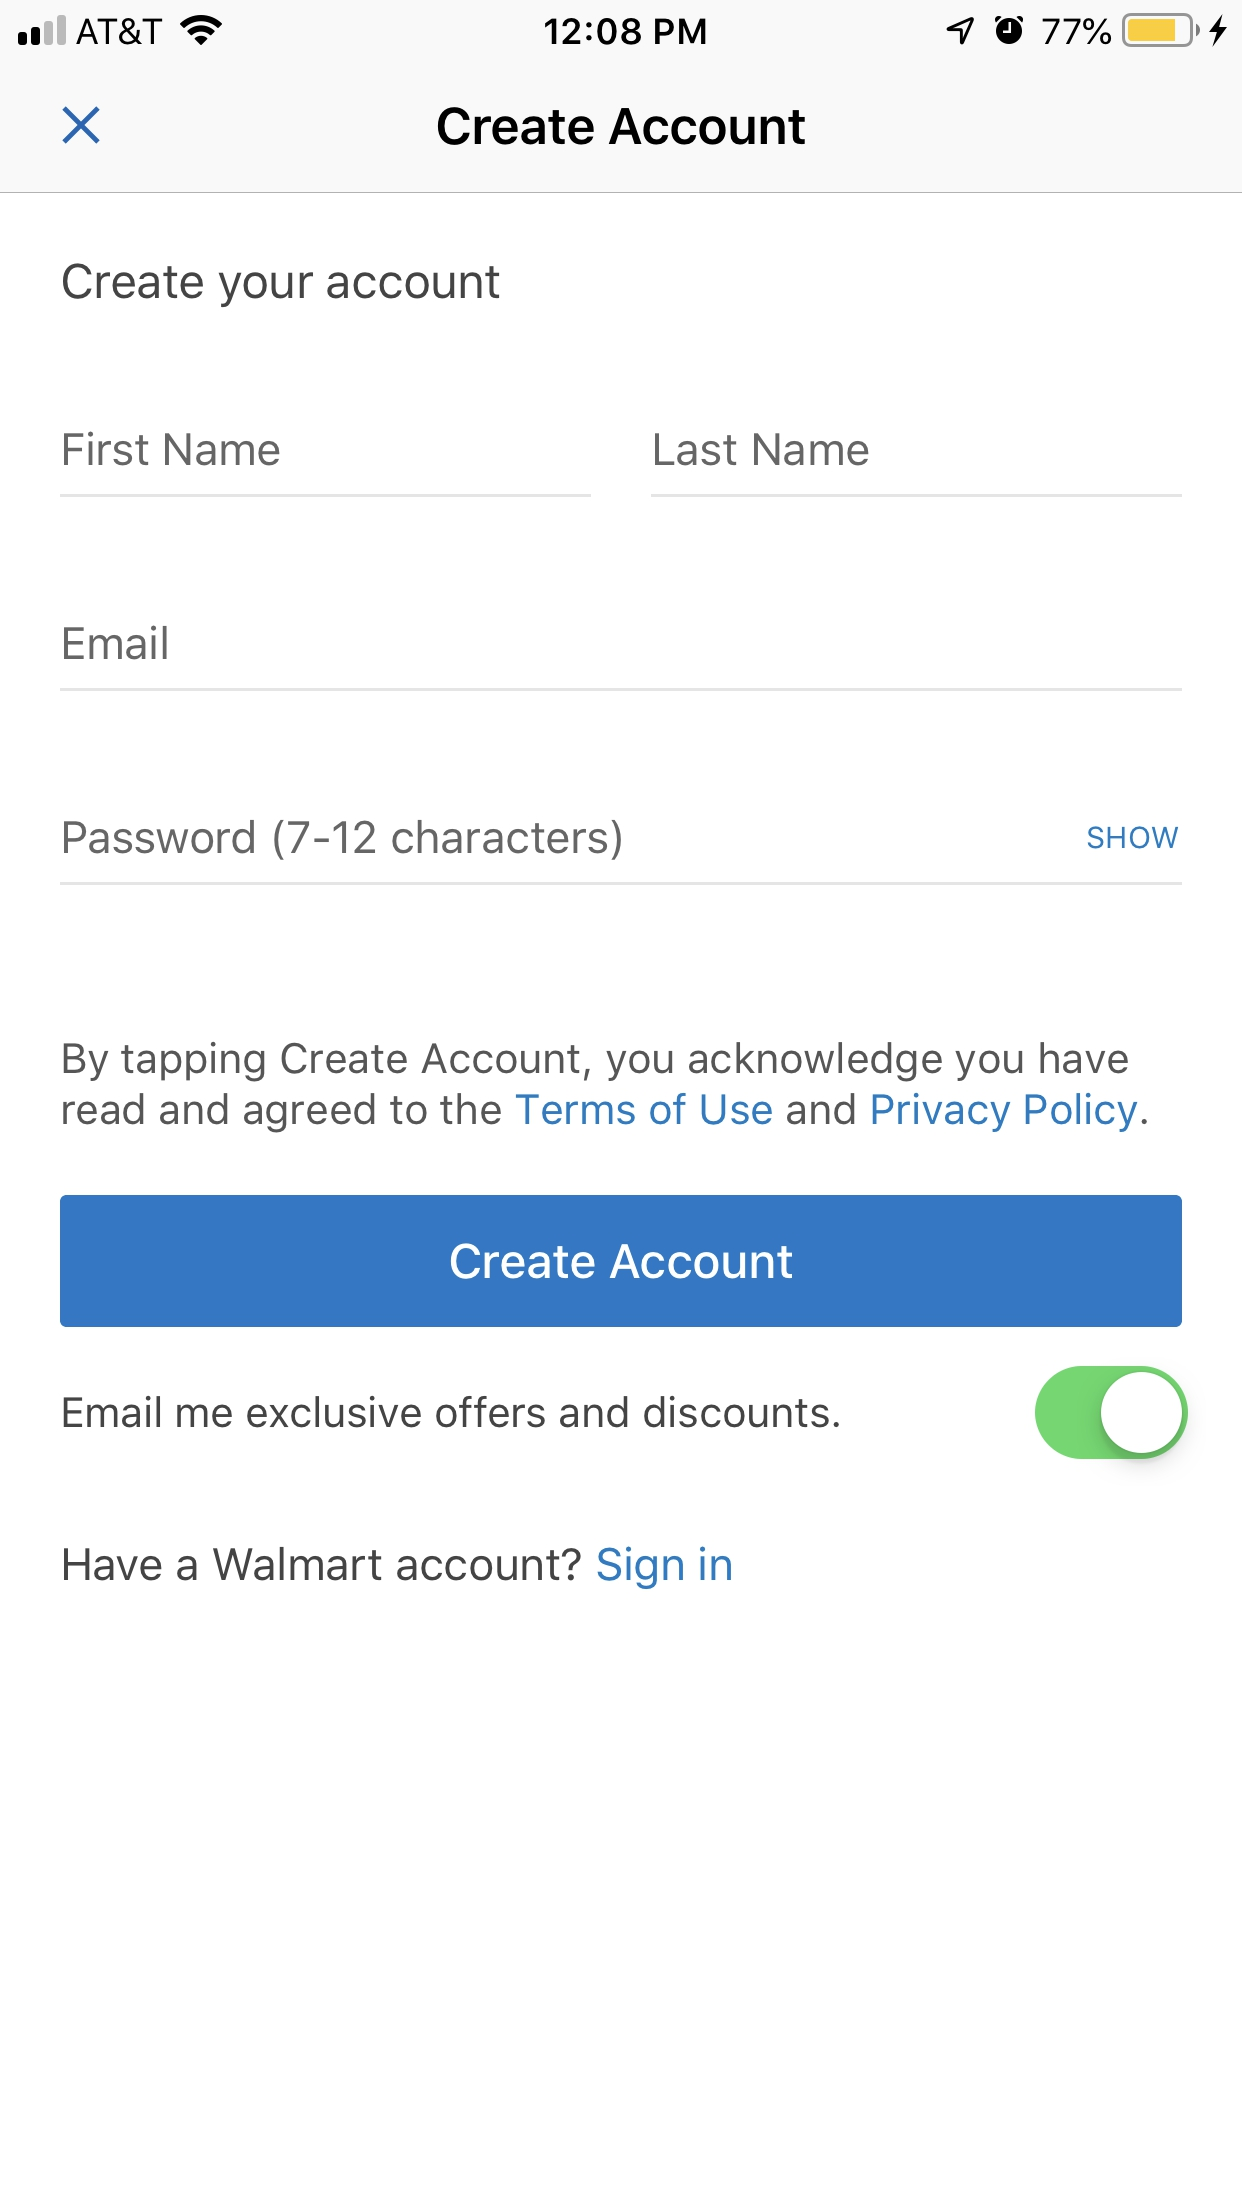EditText: (61, 625, 1183, 693), (61, 819, 1183, 886), (61, 431, 591, 499), (651, 434, 1183, 499)
Icon: (64, 106, 102, 146)
Switch: (1034, 1365, 1189, 1460)
Text: (64, 1042, 1148, 1134), (64, 1545, 732, 1589), (64, 1395, 840, 1429), (64, 819, 622, 861), (64, 264, 500, 309), (438, 108, 805, 146), (64, 431, 281, 467), (654, 434, 869, 467), (64, 623, 168, 661), (1087, 826, 1178, 851)
TextButton: (61, 1195, 1183, 1328)
UpperTaskBar: (2, 2, 1242, 49)
